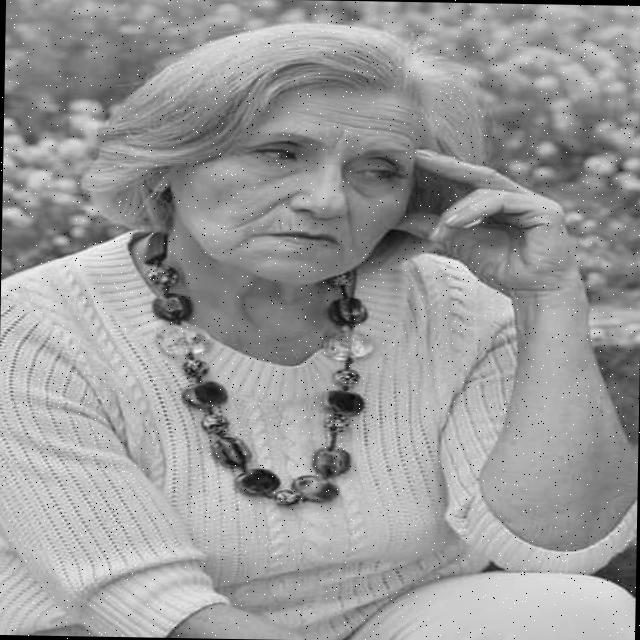Sadness: (222, 79, 418, 284)
